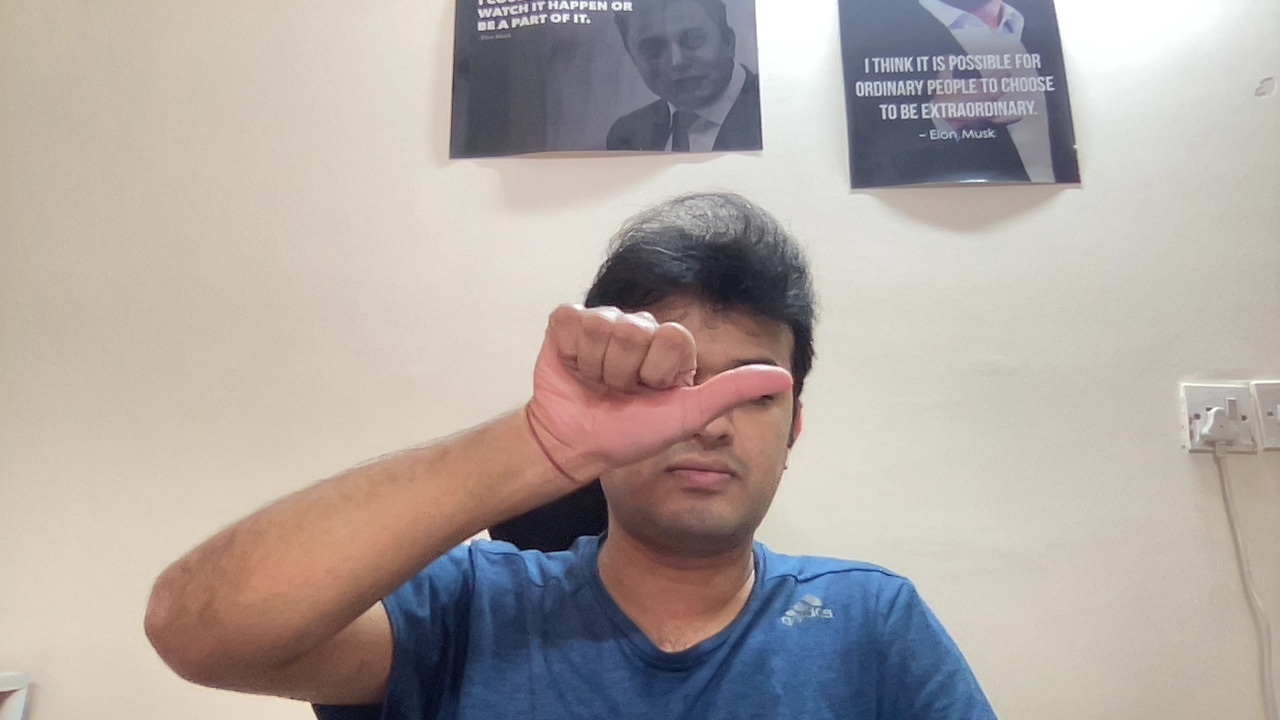left: (514, 296, 795, 479)
